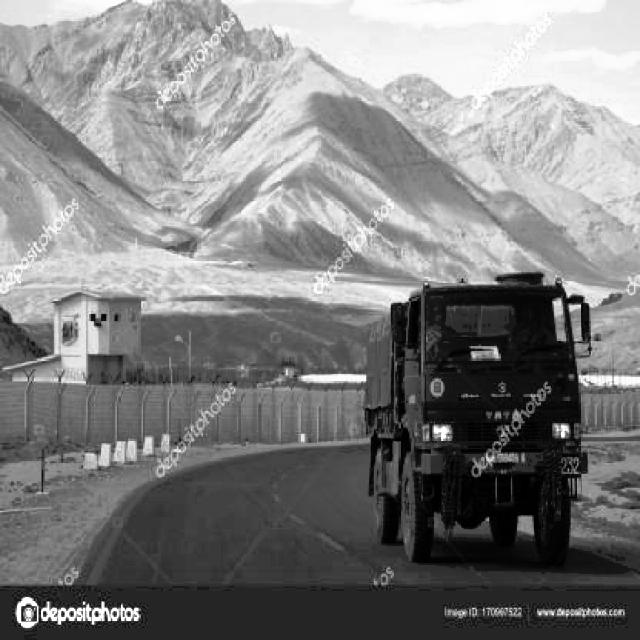HCV: (366, 284, 576, 544)
